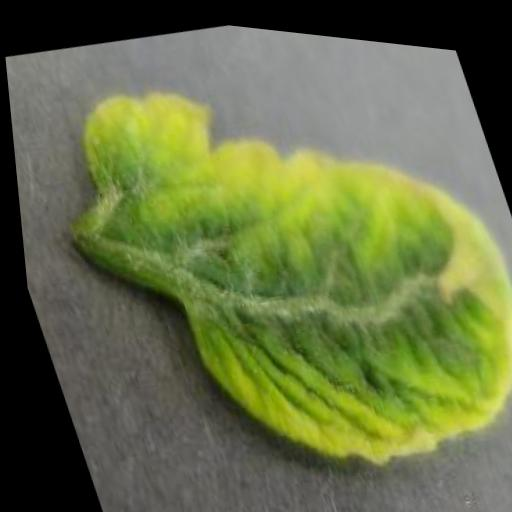Yellow Leaf Curl Virus: (18, 2, 512, 512)
